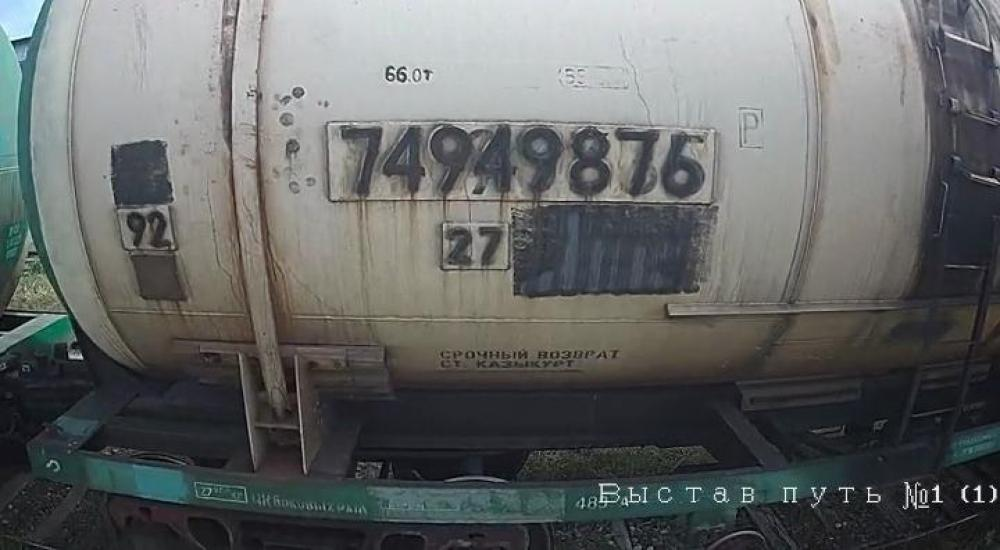Wagon-number: (332, 122, 710, 200)
